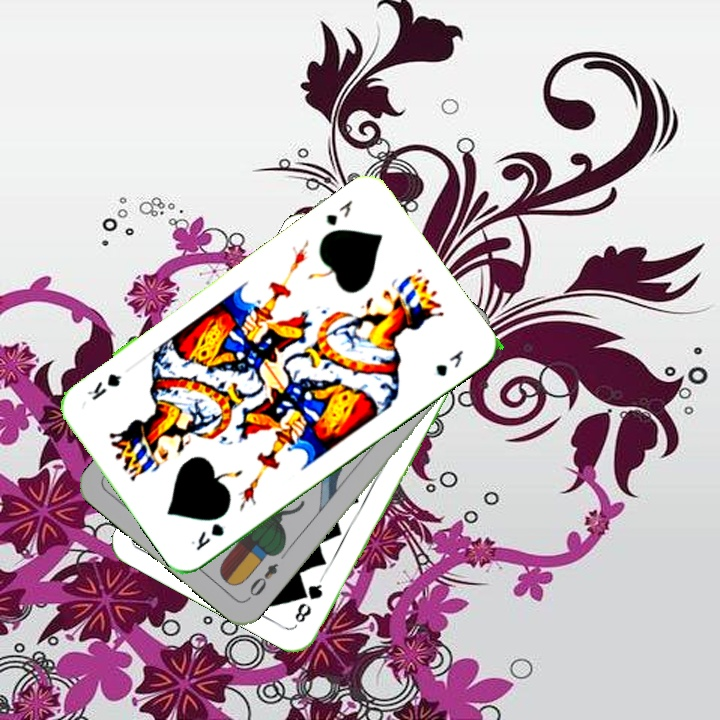EO: (243, 559, 281, 603)
G8: (290, 573, 326, 626)
GK: (186, 519, 227, 553), (322, 196, 356, 229)
